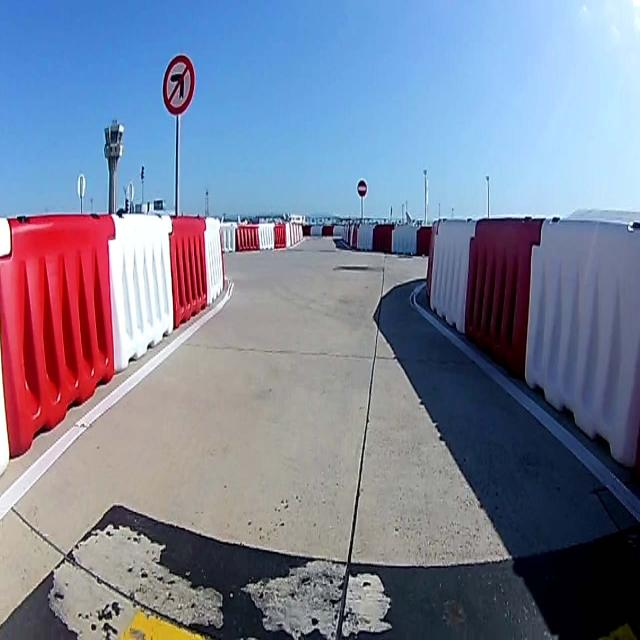girisyok: (357, 175, 367, 198)
soladonulmez: (162, 55, 195, 113)
